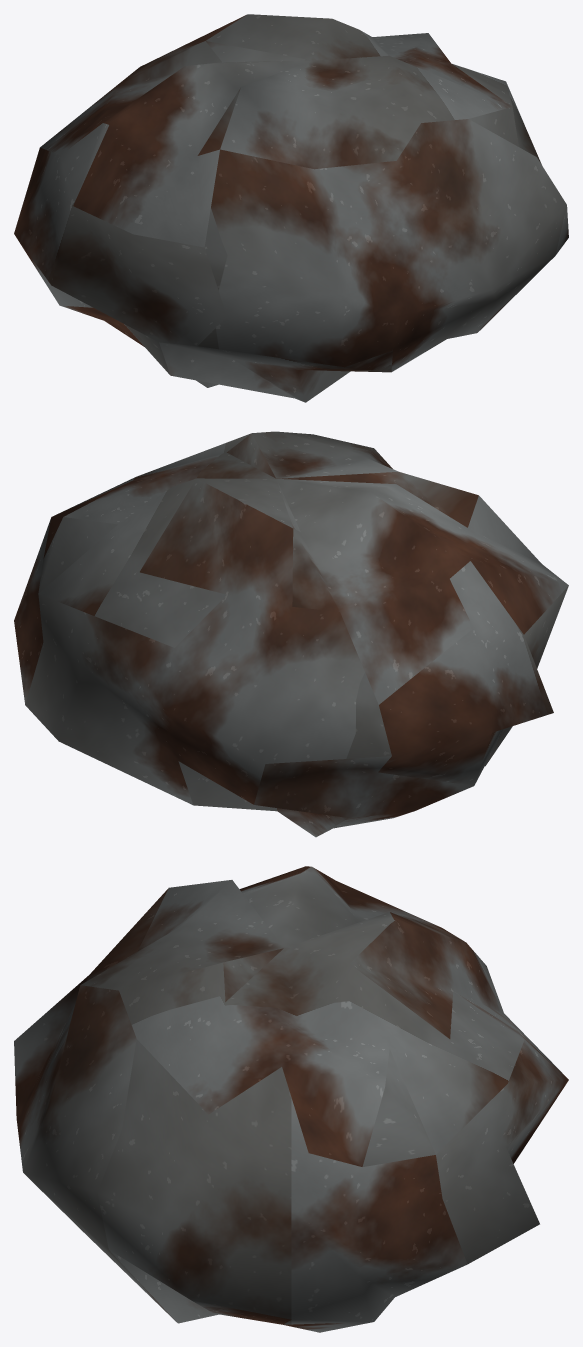
The model's file is NT05_boulders_v1.glb.
The picture shows the model from 3 angles, top to bottom: view 1: azimuth 30°, elevation 25°; view 2: azimuth 150°, elevation 25°; view 3: azimuth 270°, elevation 25°; orthographic projection. The views are drawn at different scales.
Visible parts, largest first — view 1: NT05_boulders_v1; view 2: NT05_boulders_v1; view 3: NT05_boulders_v1.
Boxes of the visible parts, x1,y1,x2,y2 form: NT05_boulders_v1: (14, 14, 568, 402); NT05_boulders_v1: (14, 431, 568, 837); NT05_boulders_v1: (14, 866, 568, 1332).
Bounding box in the file's own units: 2.5 × 1.58 × 2.18.
Materials: 1 (1 with a texture image).
